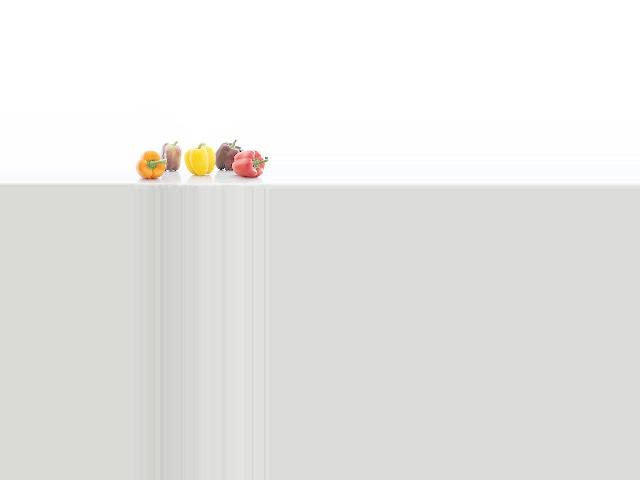bell_pepper: (135, 140, 167, 182)
